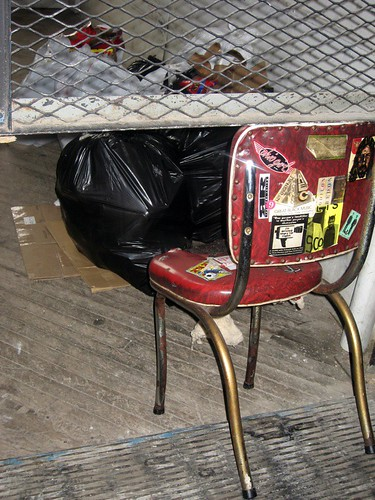chair: (145, 115, 375, 500)
trash: (19, 13, 288, 300)
